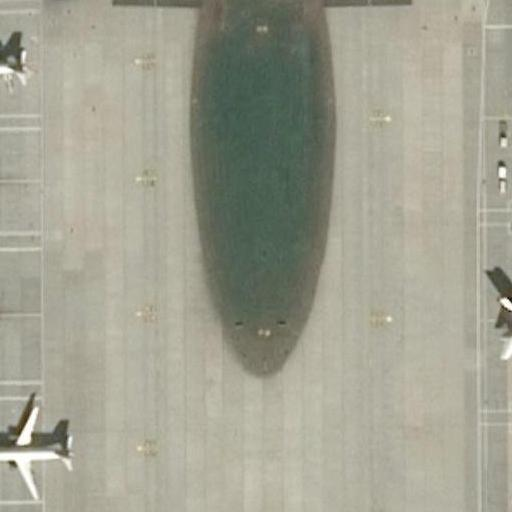Aircraft: (0, 403, 73, 495), (491, 234, 512, 409), (0, 17, 28, 114)
